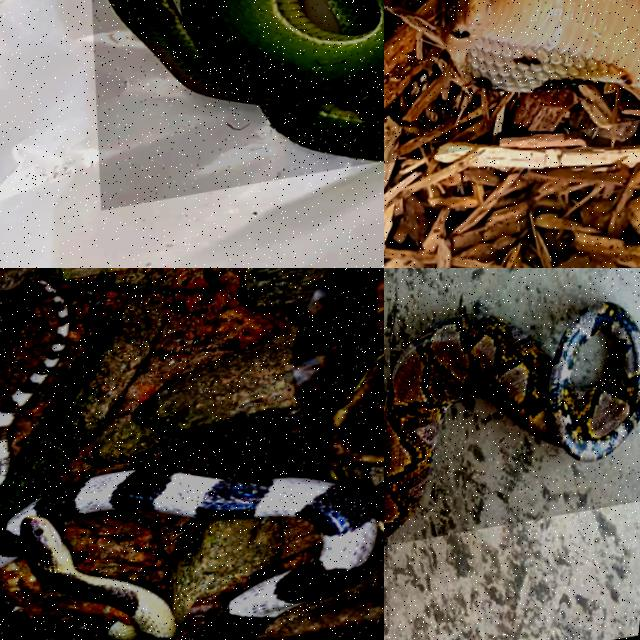Bungarus candidus: (0, 469, 377, 639)
Malayopython reticulatus: (384, 302, 639, 540)
Naja kaouthia: (444, 0, 639, 92)
Trimeresurus: (109, 0, 383, 161)
snake: (0, 469, 377, 639), (384, 302, 639, 540), (109, 0, 383, 161), (444, 0, 639, 92)
